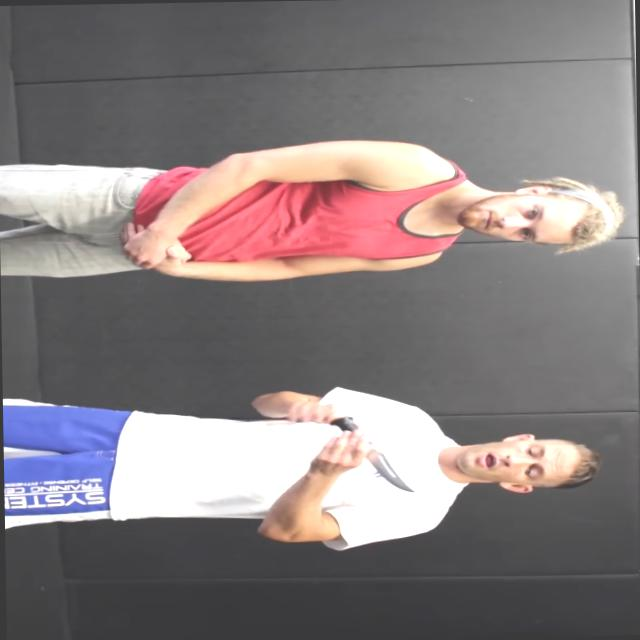knife: (322, 409, 422, 502)
